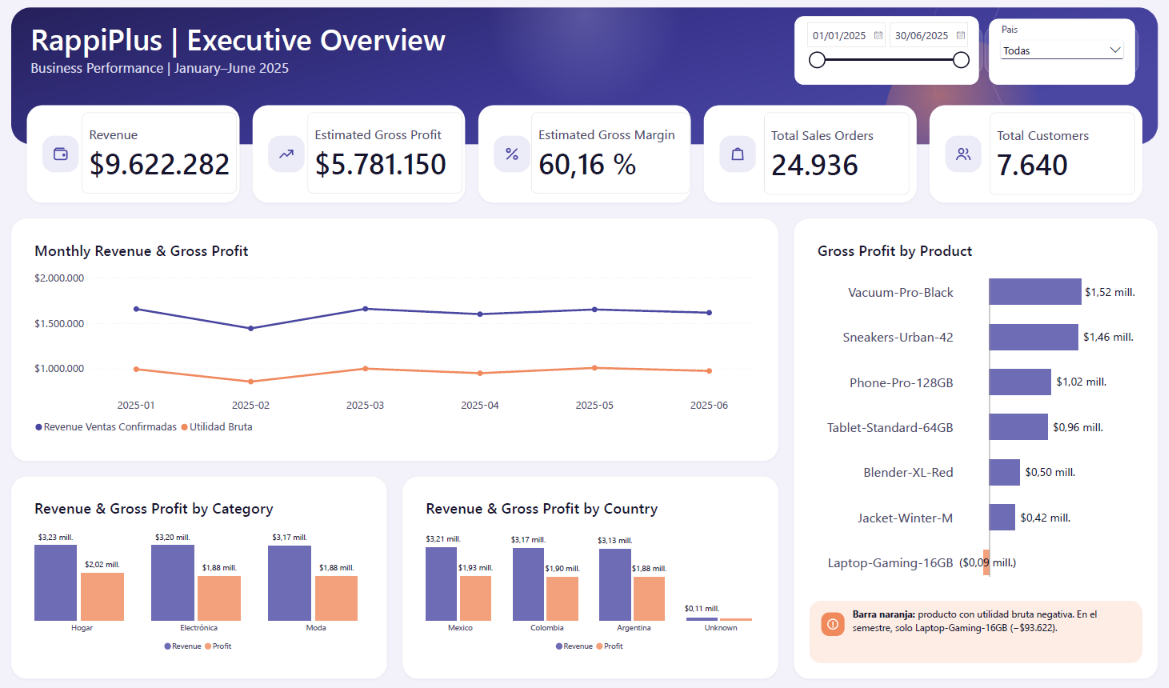

The dashboard page shown, as its layout file describes it:
{"tool":"powerbi","page":{"name":"Executive Overview","canvas":[1920,1080],"ordinal":0},"visuals":[{"type":"textbox","title":"RappiPlus | Executive Overview","box":[162,42,1000,122],"z":0},{"type":"cardVisual","fields":{"Data":["Medidas.Revenue Ventas Confirmadas"]},"box":[240.7,186.4,238.9,124.9],"z":1000},{"type":"cardVisual","fields":{"Data":["Medidas.Utilidad Bruta"]},"box":[588.1,186.4,238.9,124.9],"z":2000},{"type":"cardVisual","fields":{"Data":["Medidas.Margen Bruto %"]},"box":[932,186.4,244.3,124.9],"z":3000},{"type":"cardVisual","fields":{"Data":["Medidas.Total Sales Orders"]},"box":[1289.6,186,223.2,126],"z":4000},{"type":"cardVisual","fields":{"Data":["Medidas.Total Purchasing Customers"]},"box":[1636.8,186,223.2,126],"z":5000},{"type":"lineChart","title":"Monthly Revenue & Gross Profit","fields":{"Category":["dim_fecha.AñoMes"],"Y":["Medidas.Revenue Ventas Confirmadas","Medidas.Utilidad Bruta"]},"box":[152,368,1140,333],"z":6000},{"type":"clusteredColumnChart","title":"Revenue & Gross Profit by Country","fields":{"Category":["dim_pais.Pais"],"Y":["Medidas.Revenue Ventas Confirmadas","Medidas.Utilidad Bruta"]},"box":[754,765,538,271],"z":7000},{"type":"clusteredColumnChart","title":"Revenue & Gross Profit by Category","fields":{"Category":["catalog_clean.categoria_producto"],"Y":["Medidas.Revenue Ventas Confirmadas","Medidas.Utilidad Bruta"]},"box":[152,765,538,271],"z":8000},{"type":"clusteredBarChart","title":"Gross Profit by Product","fields":{"Category":["catalog_clean.nombre_producto"],"Y":["Medidas.Utilidad Bruta"]},"box":[1356,368,520,548],"z":9000},{"type":"slicer","fields":{"Values":["dim_fecha.Date"]},"box":[1337.3,38,282.3,105],"z":10000},{"type":"slicer","fields":{"Values":["dim_pais.Pais"]},"box":[1635.9,41.6,224.4,101.3],"z":11000},{"type":"textbox","box":[1426,946,432,76],"z":12000},{"type":"actionButton","box":[40,130,52,52],"z":13000},{"type":"actionButton","box":[40,196,52,52],"z":14000}]}

Visuals, with their boxes on the page's 1920x1080 design canvas (x1, y1, x2, y2). These are canvas units, not pixel positions in the 1169x688 screenshot, which may show the page scaled, cropped or inside an application window:
"RappiPlus | Executive Overview" textbox: [x1=162, y1=42, x2=1162, y2=164]
cardVisual - Medidas.Revenue Ventas Confirmadas: [x1=241, y1=186, x2=480, y2=311]
cardVisual - Medidas.Utilidad Bruta: [x1=588, y1=186, x2=827, y2=311]
cardVisual - Medidas.Margen Bruto %: [x1=932, y1=186, x2=1176, y2=311]
cardVisual - Medidas.Total Sales Orders: [x1=1290, y1=186, x2=1513, y2=312]
cardVisual - Medidas.Total Purchasing Customers: [x1=1637, y1=186, x2=1860, y2=312]
"Monthly Revenue & Gross Profit" lineChart: [x1=152, y1=368, x2=1292, y2=701]
"Revenue & Gross Profit by Country" clusteredColumnChart: [x1=754, y1=765, x2=1292, y2=1036]
"Revenue & Gross Profit by Category" clusteredColumnChart: [x1=152, y1=765, x2=690, y2=1036]
"Gross Profit by Product" clusteredBarChart: [x1=1356, y1=368, x2=1876, y2=916]
slicer - dim_fecha.Date: [x1=1337, y1=38, x2=1620, y2=143]
slicer - dim_pais.Pais: [x1=1636, y1=42, x2=1860, y2=143]
textbox: [x1=1426, y1=946, x2=1858, y2=1022]
actionButton: [x1=40, y1=130, x2=92, y2=182]
actionButton: [x1=40, y1=196, x2=92, y2=248]
